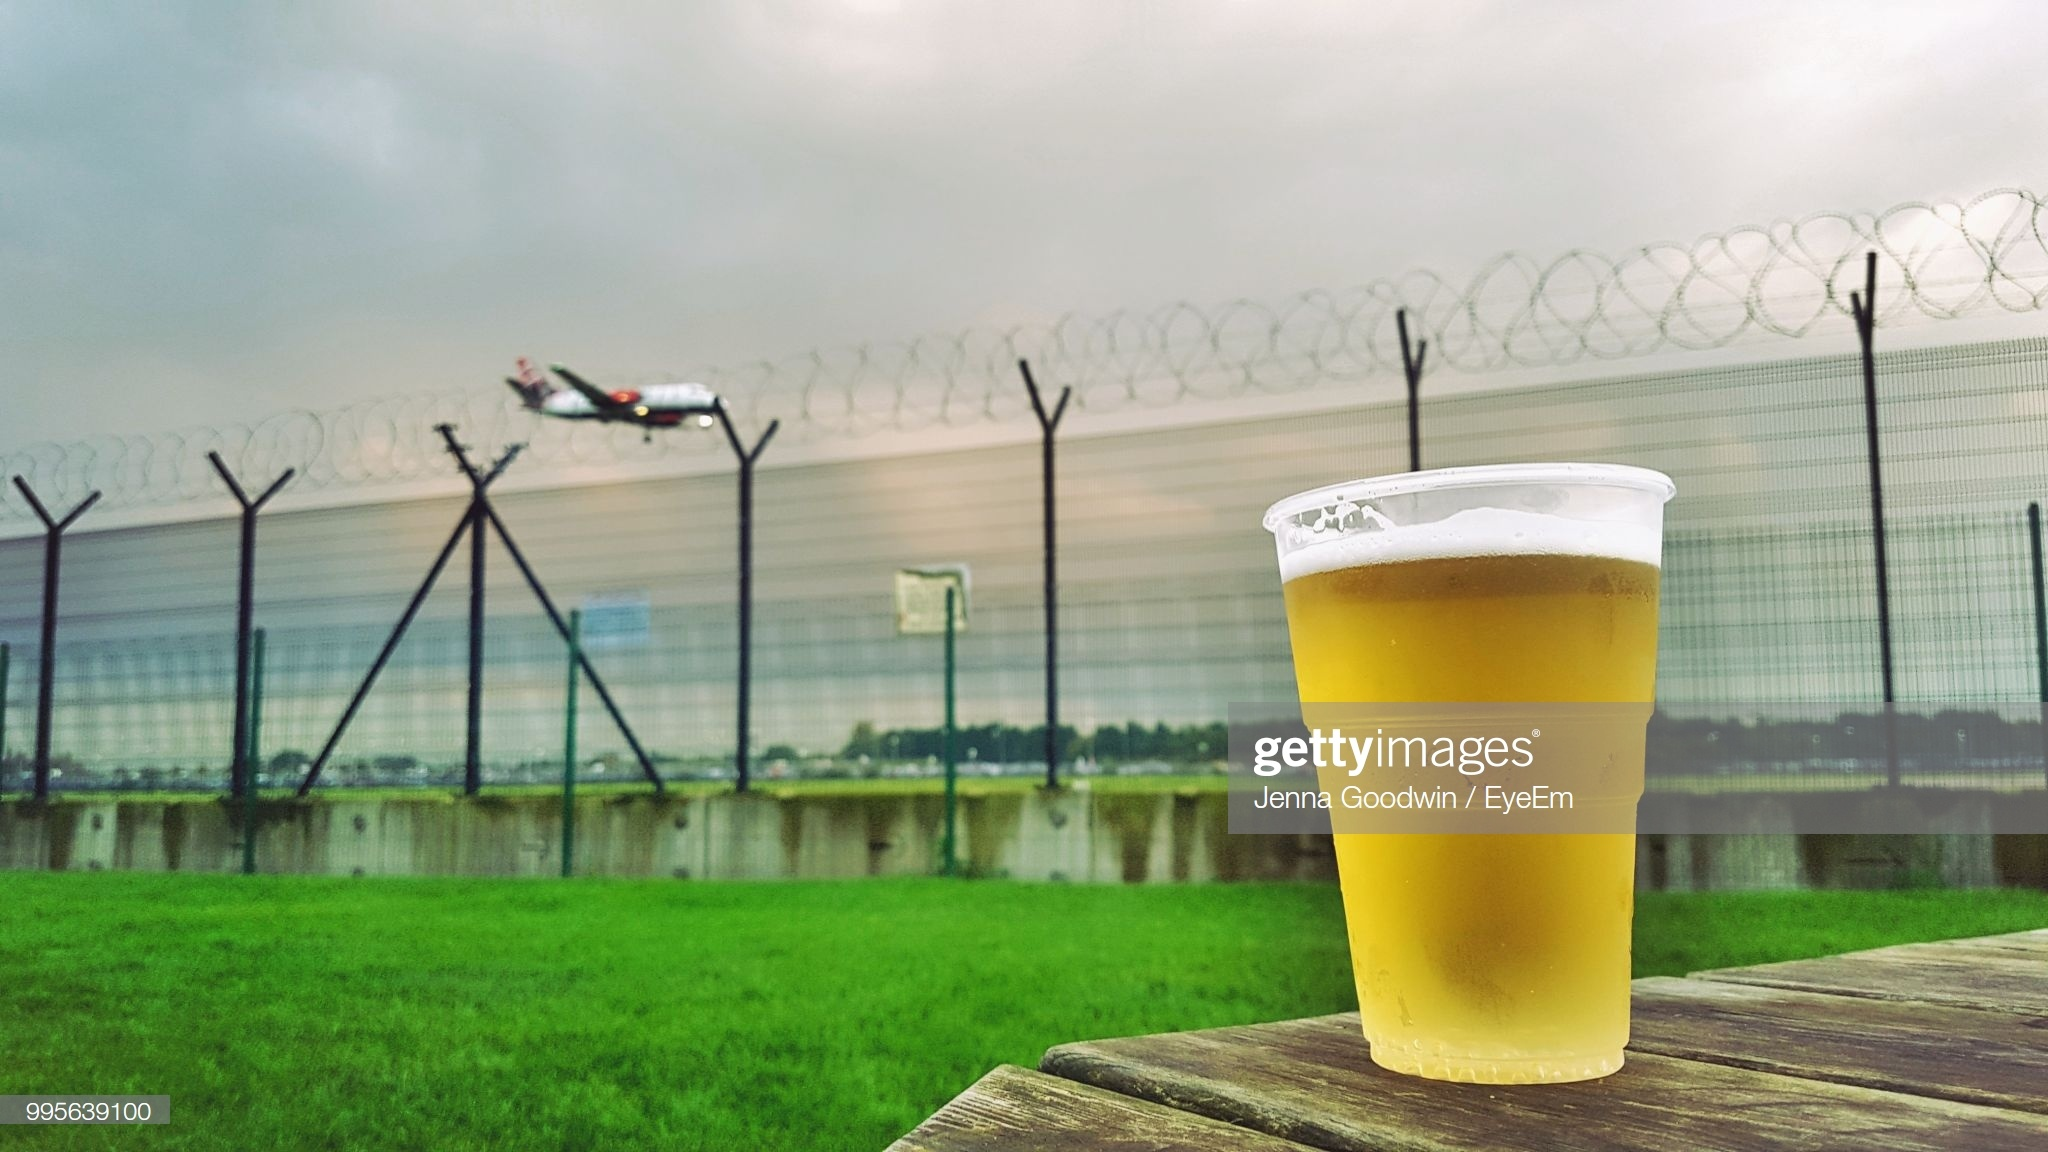glassBeer: (1291, 466, 1678, 1075)
